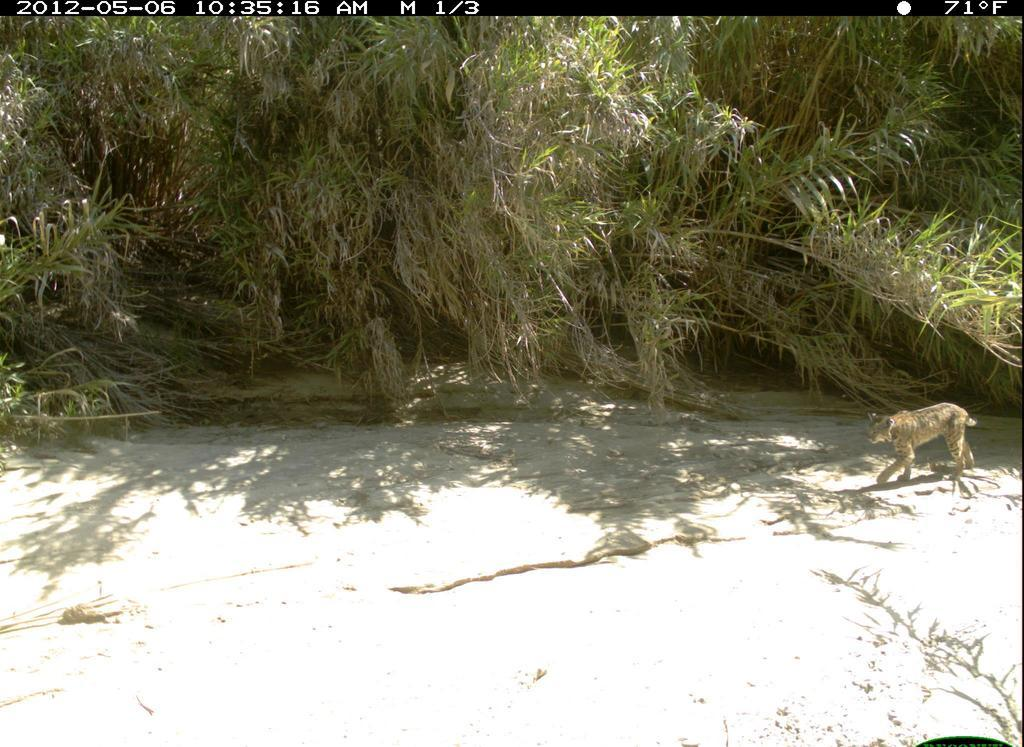bobcat: (862, 398, 995, 504)
